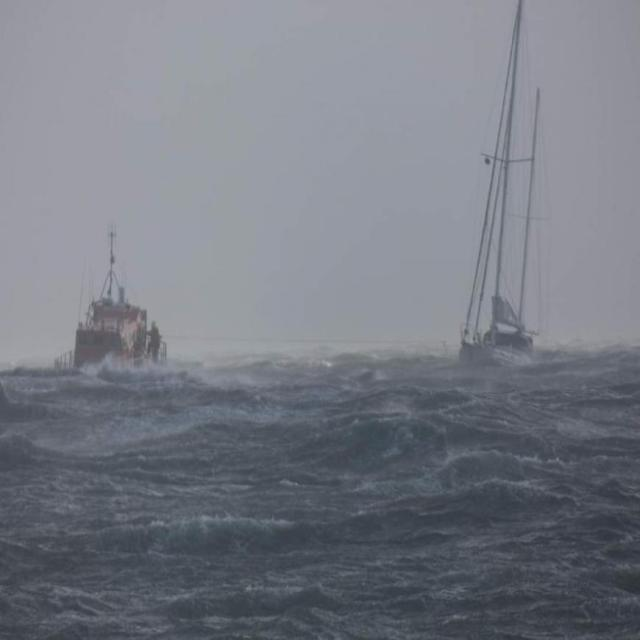fishing boat: (438, 23, 548, 371), (58, 232, 168, 382)
